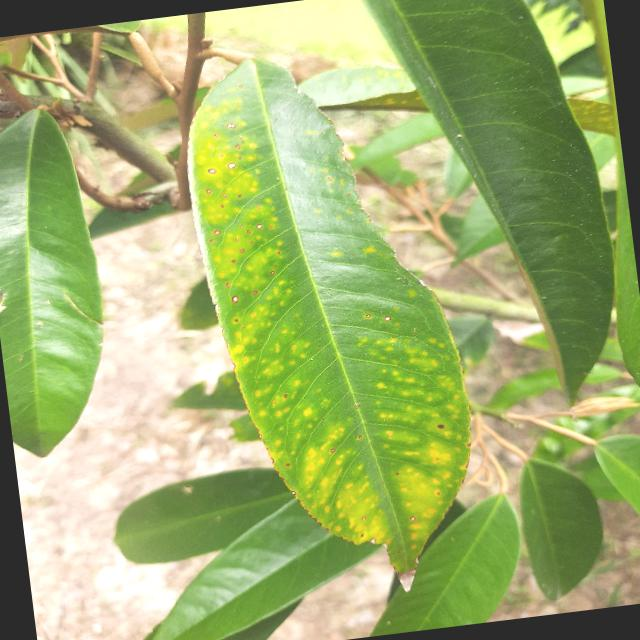Leaf Spot: (166, 24, 501, 622)
